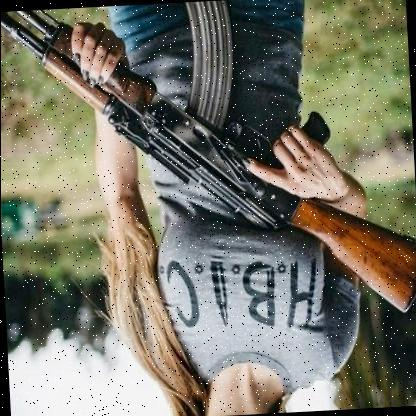rifle: (10, 0, 416, 346)
